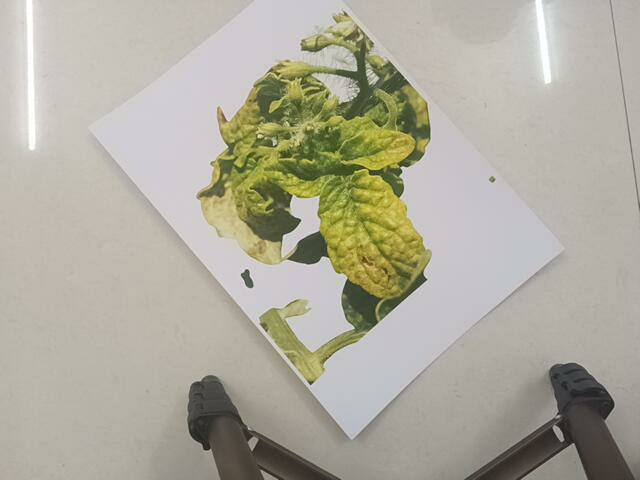Tomamto_Leaf_curl_virus: (207, 37, 431, 342)
